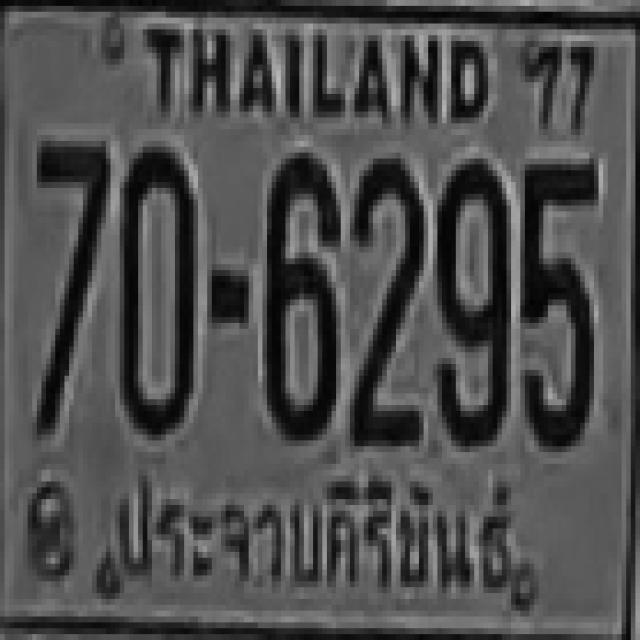0: (115, 144, 193, 431)
2: (352, 156, 422, 414), (348, 197, 421, 443)
5: (518, 159, 592, 446), (518, 158, 592, 323)
6: (263, 150, 336, 437)
7: (32, 138, 106, 426), (32, 156, 106, 432), (32, 138, 106, 385), (32, 138, 106, 343)
9: (433, 158, 506, 440)
PrachuapKhiriKhan: (101, 460, 532, 608)
